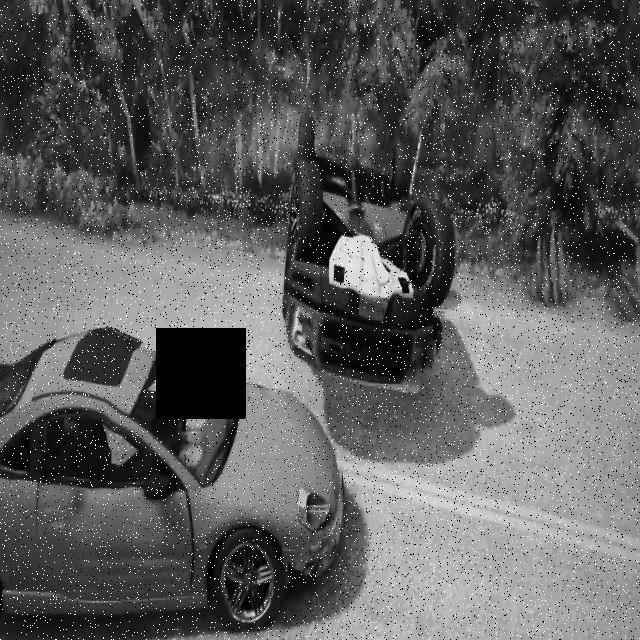accident: (280, 92, 461, 407)
vehicle: (0, 321, 351, 632)
